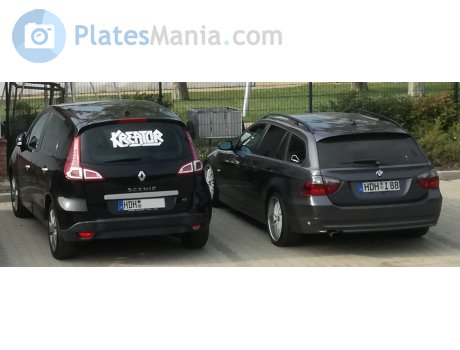License Plates: (120, 197, 164, 207)
